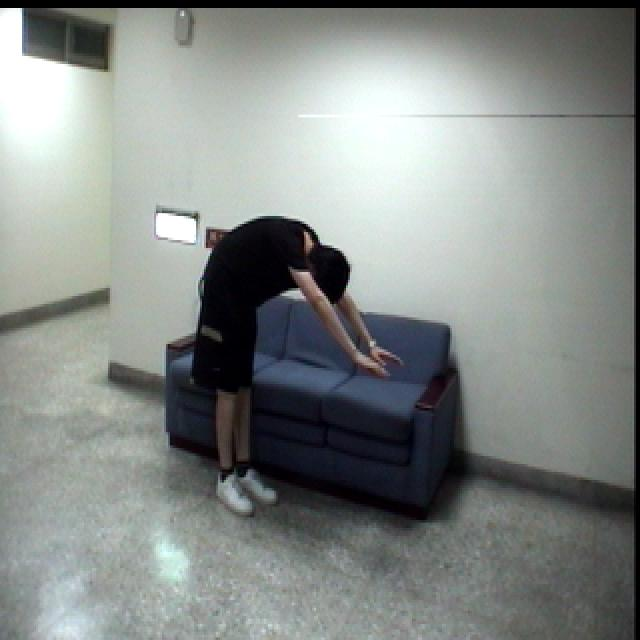bend: (189, 204, 406, 523)
